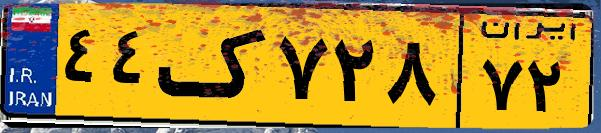2: (330, 28, 385, 110), (525, 38, 570, 115)
4: (57, 26, 110, 100), (110, 28, 158, 98)
7: (270, 28, 330, 110), (475, 38, 525, 113)
8: (385, 28, 445, 110)
ک: (158, 12, 270, 120)
